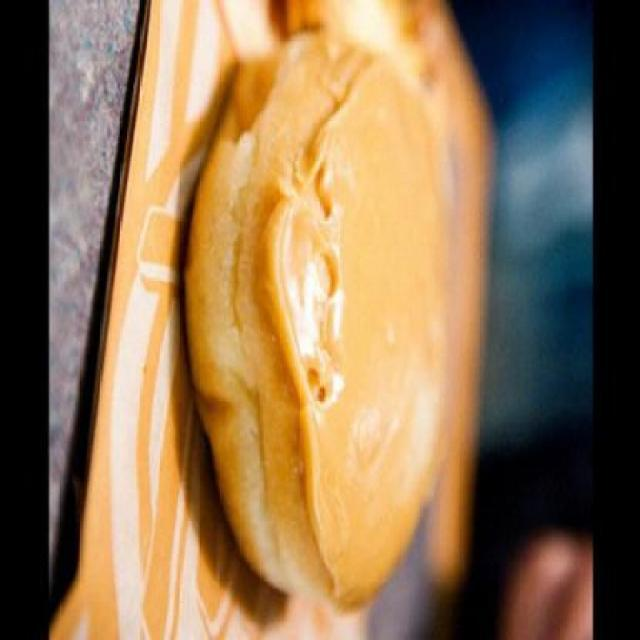Donuts: (95, 56, 479, 628)
